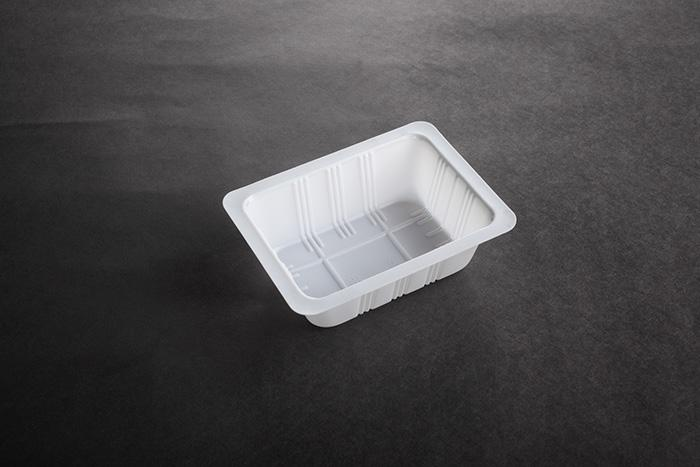plastic: (224, 121, 515, 325)
